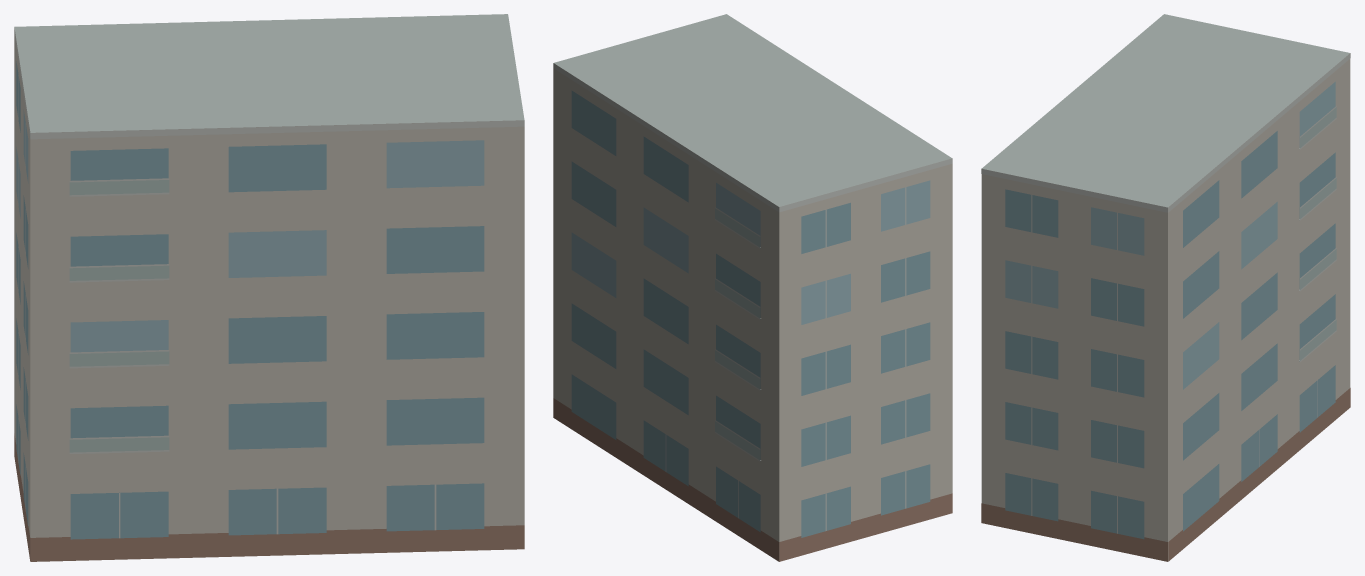
Rendered from survey-upis-32886154.glb.
3 views of the same model, side by side, from view 1: azimuth 30°, elevation 25°; view 2: azimuth 150°, elevation 25°; view 3: azimuth 270°, elevation 25° (orthographic). The views are drawn at different scales.
Parts seen in each view (by area): view 1: survey-upis-32886154.tmp; view 2: survey-upis-32886154.tmp; view 3: survey-upis-32886154.tmp.
Boxes of the visible parts, x1,y1,x2,y2 form: survey-upis-32886154.tmp: [14, 14, 524, 561]; survey-upis-32886154.tmp: [553, 14, 952, 561]; survey-upis-32886154.tmp: [981, 14, 1350, 561].
Size of the model in its own units: 19.1 by 16.3 by 15.39.
